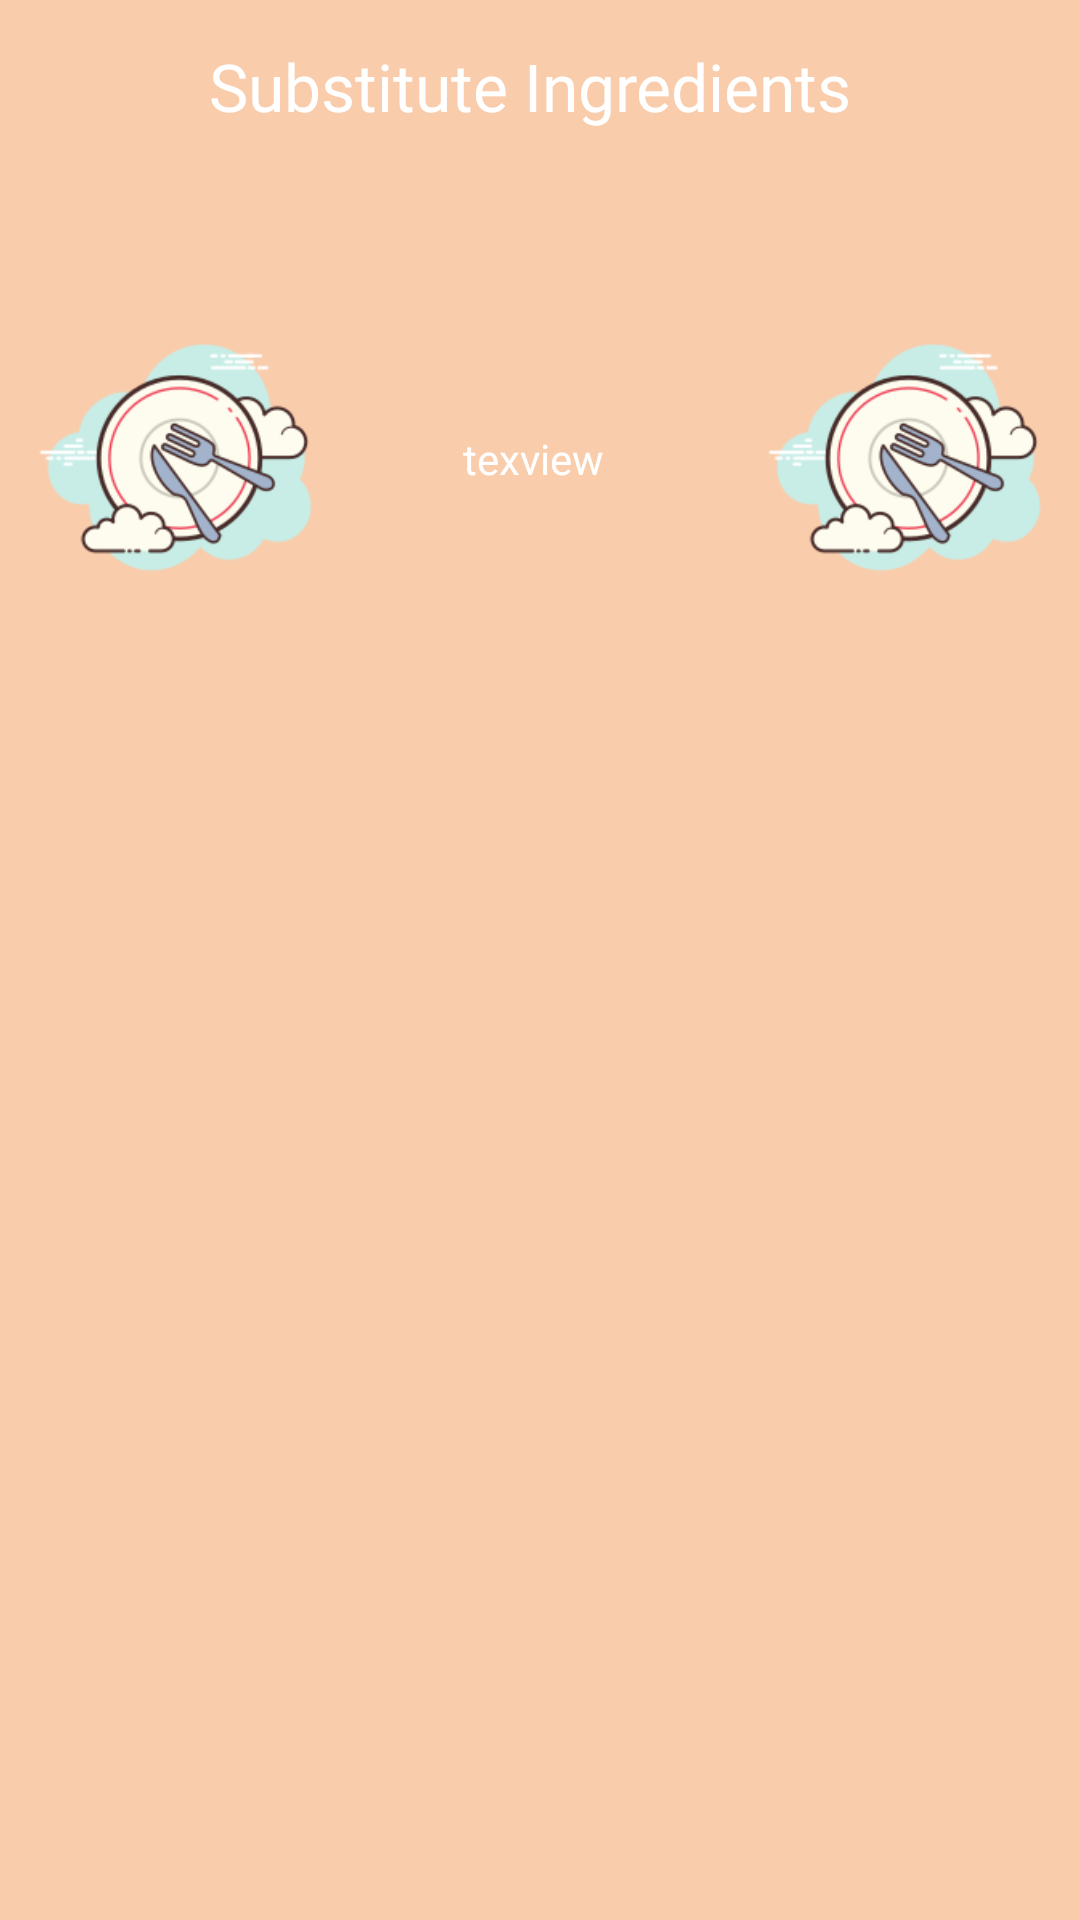

Locate icon controls on the screen. Image size 1080*1920, boxes as [x1, y1, x2, y2].
meal: [40, 345, 311, 570], [769, 345, 1040, 570]
